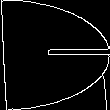L_W: (5, 39, 105, 71)
